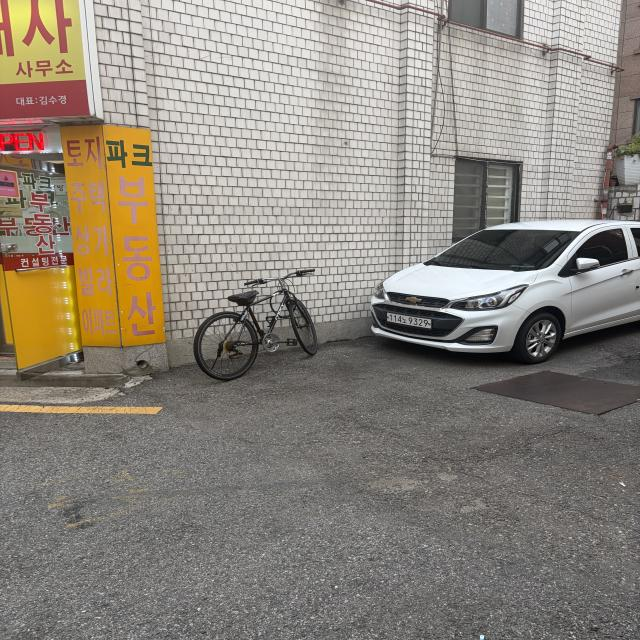bicycle: (174, 255, 342, 388)
car: (345, 202, 640, 375)
